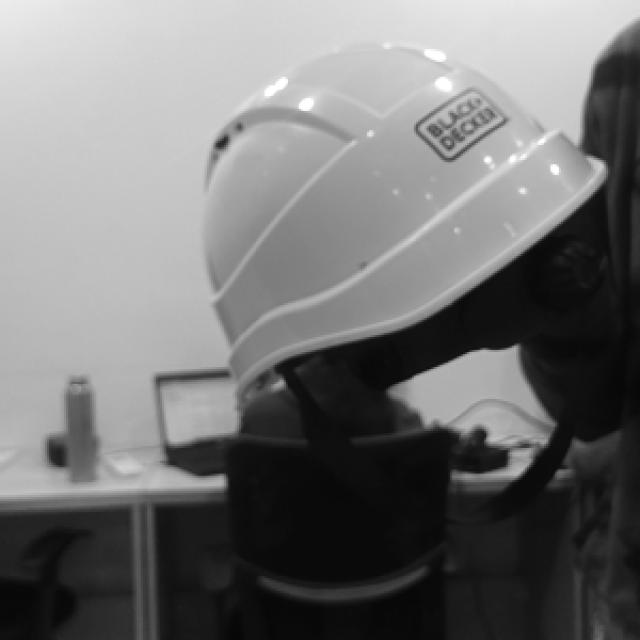safety_helmet: (201, 41, 610, 401)
